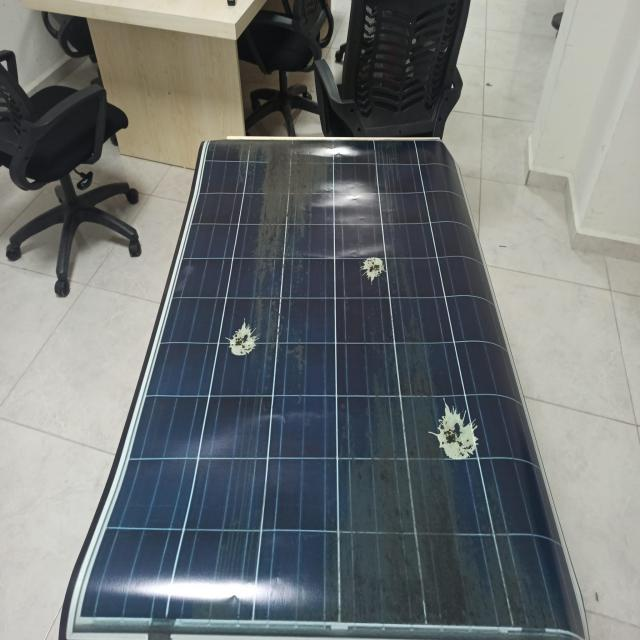faulty: (60, 140, 582, 638)
